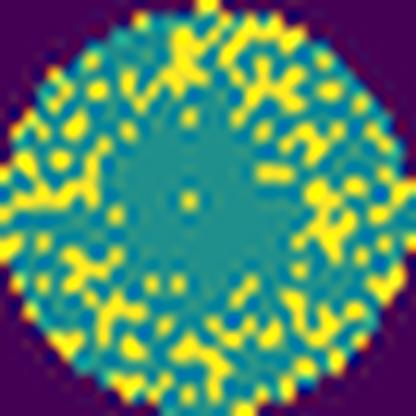Donut: (46, 49, 358, 368)
